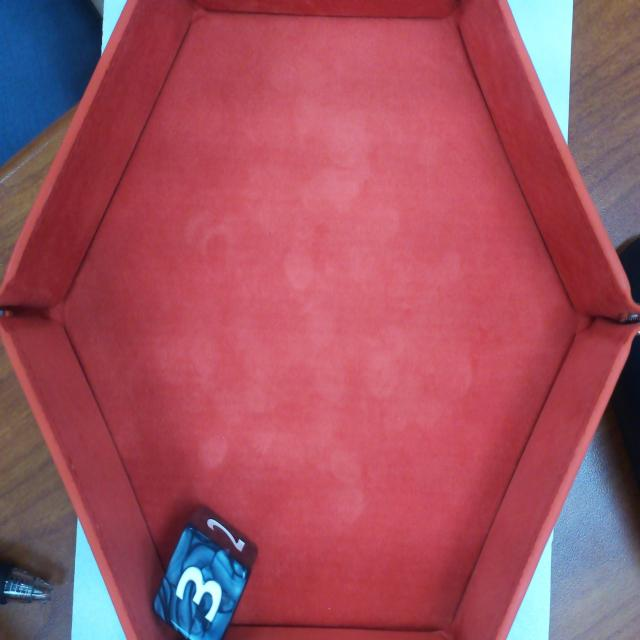dice: (154, 524, 250, 640)
